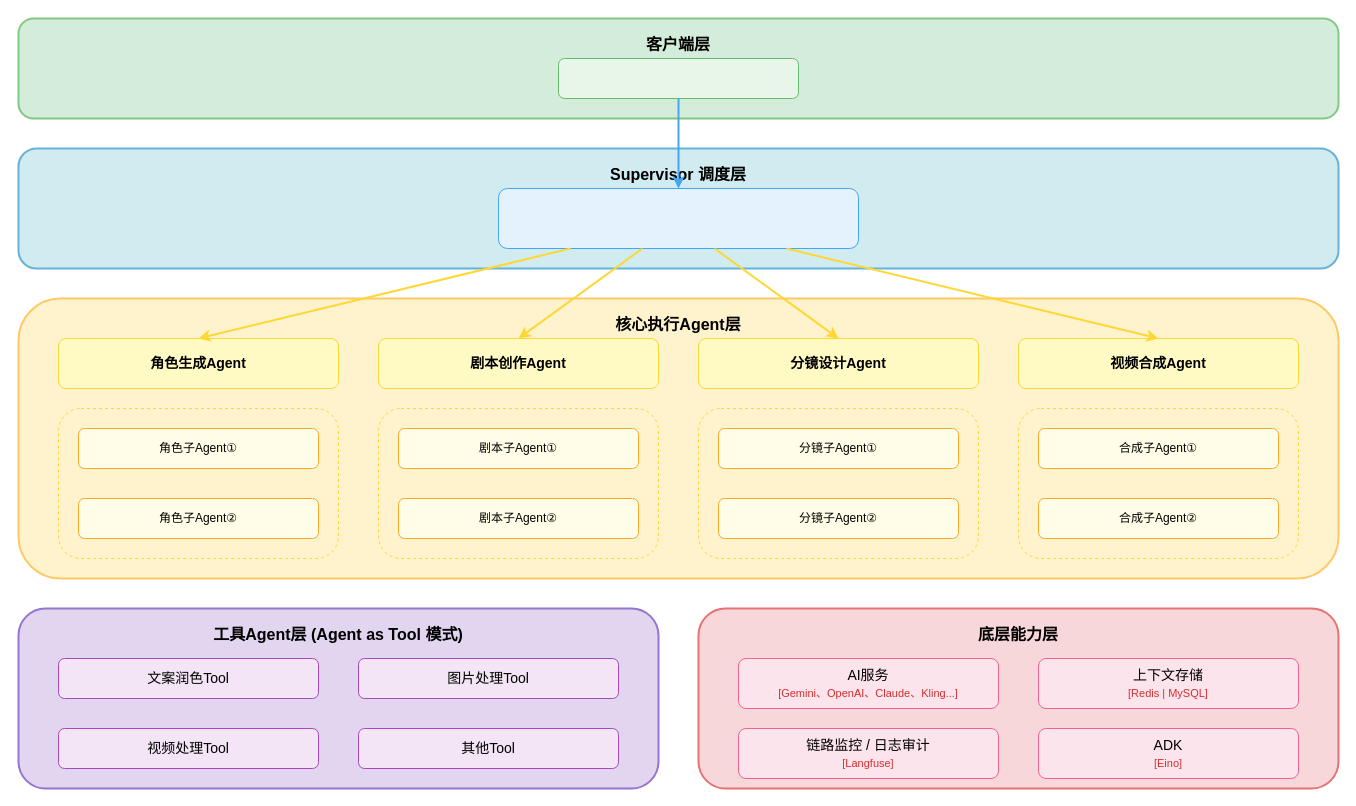
The diagram is 1356 pixels wide and 806 high, and some of its shapes have lost their labels. Each missing label, with the centre of its shape:
业务客户端 / API网关: [678,78]
视频生成Supervisor Agent 全局调度 | 结果整合 | 异常兜底: [678,218]
